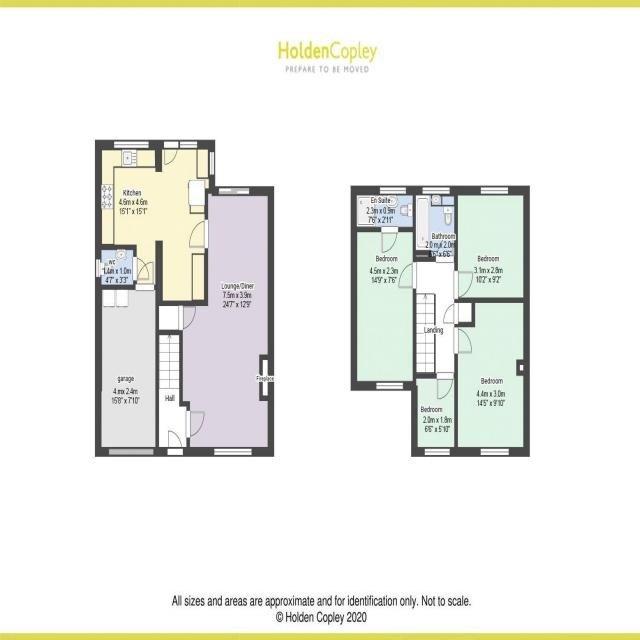DOOR: (188, 218, 209, 249), (454, 269, 474, 300), (436, 372, 456, 401), (398, 260, 417, 290), (186, 410, 205, 439), (454, 327, 473, 355), (381, 226, 399, 254), (166, 429, 184, 456)
ROOM: (183, 185, 274, 457), (95, 139, 216, 307), (454, 296, 530, 457), (350, 225, 417, 391), (454, 185, 530, 302), (411, 372, 458, 457)
WINDOW: (213, 447, 252, 458), (113, 139, 150, 150), (479, 446, 510, 457), (422, 185, 451, 196), (375, 380, 404, 391), (379, 185, 407, 196), (479, 186, 509, 196), (423, 447, 451, 457), (179, 139, 198, 150), (208, 150, 216, 176), (162, 139, 179, 149), (95, 258, 101, 278)
